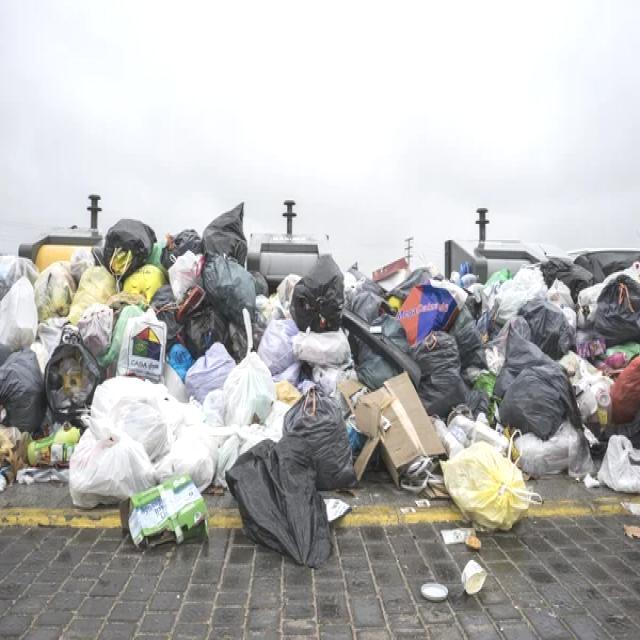high trash: (0, 210, 640, 567)
less trash: (461, 560, 488, 595), (420, 582, 449, 602)
